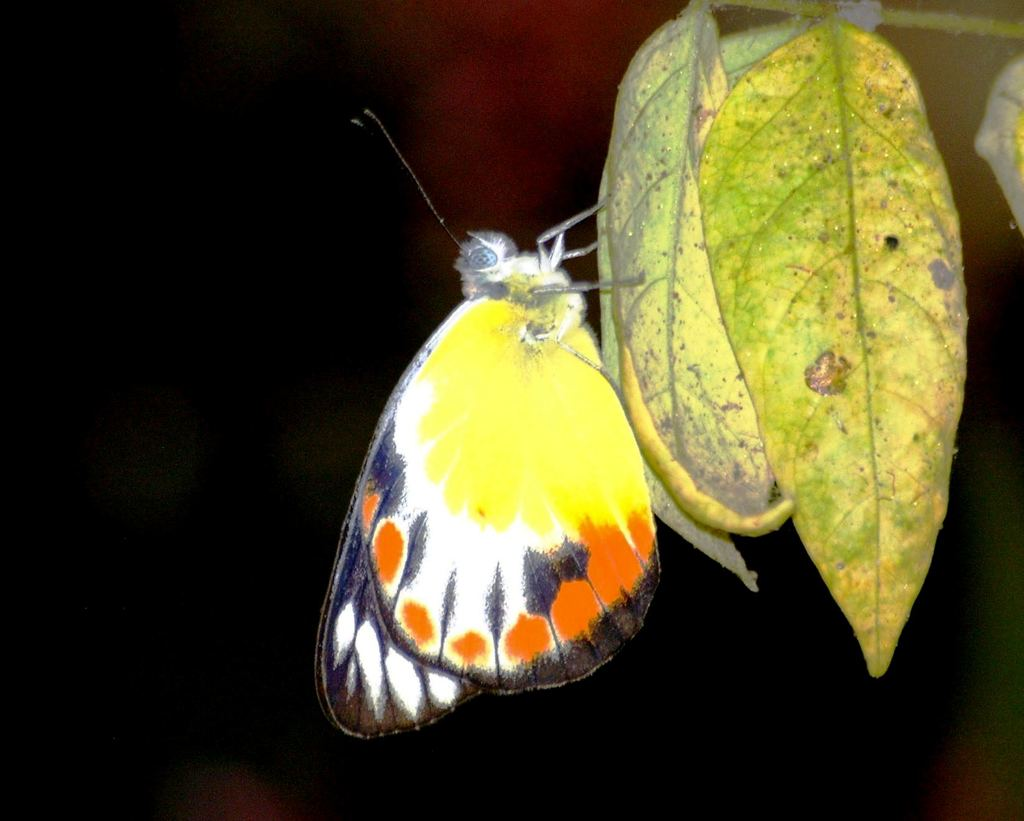Butterfly: (282, 172, 681, 724)
